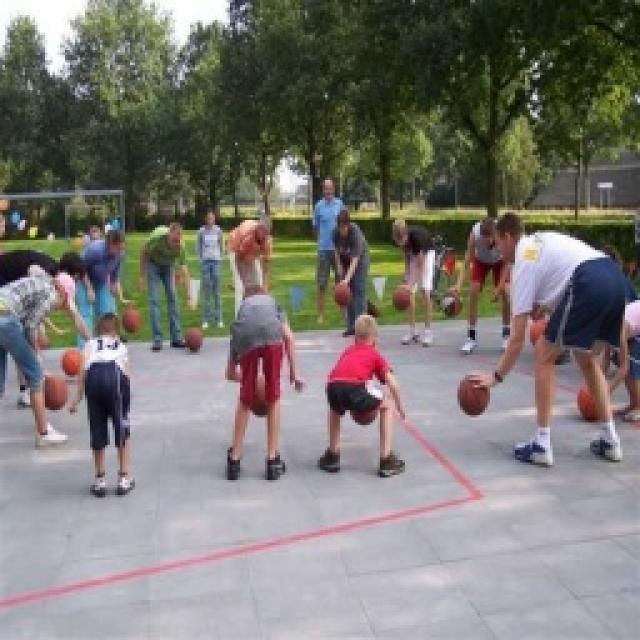rim: (459, 375, 486, 414), (252, 380, 272, 417), (45, 378, 67, 410), (185, 326, 204, 354), (582, 383, 598, 416), (62, 346, 82, 372), (440, 294, 460, 318), (336, 280, 356, 304), (184, 326, 204, 349), (394, 286, 411, 312)
